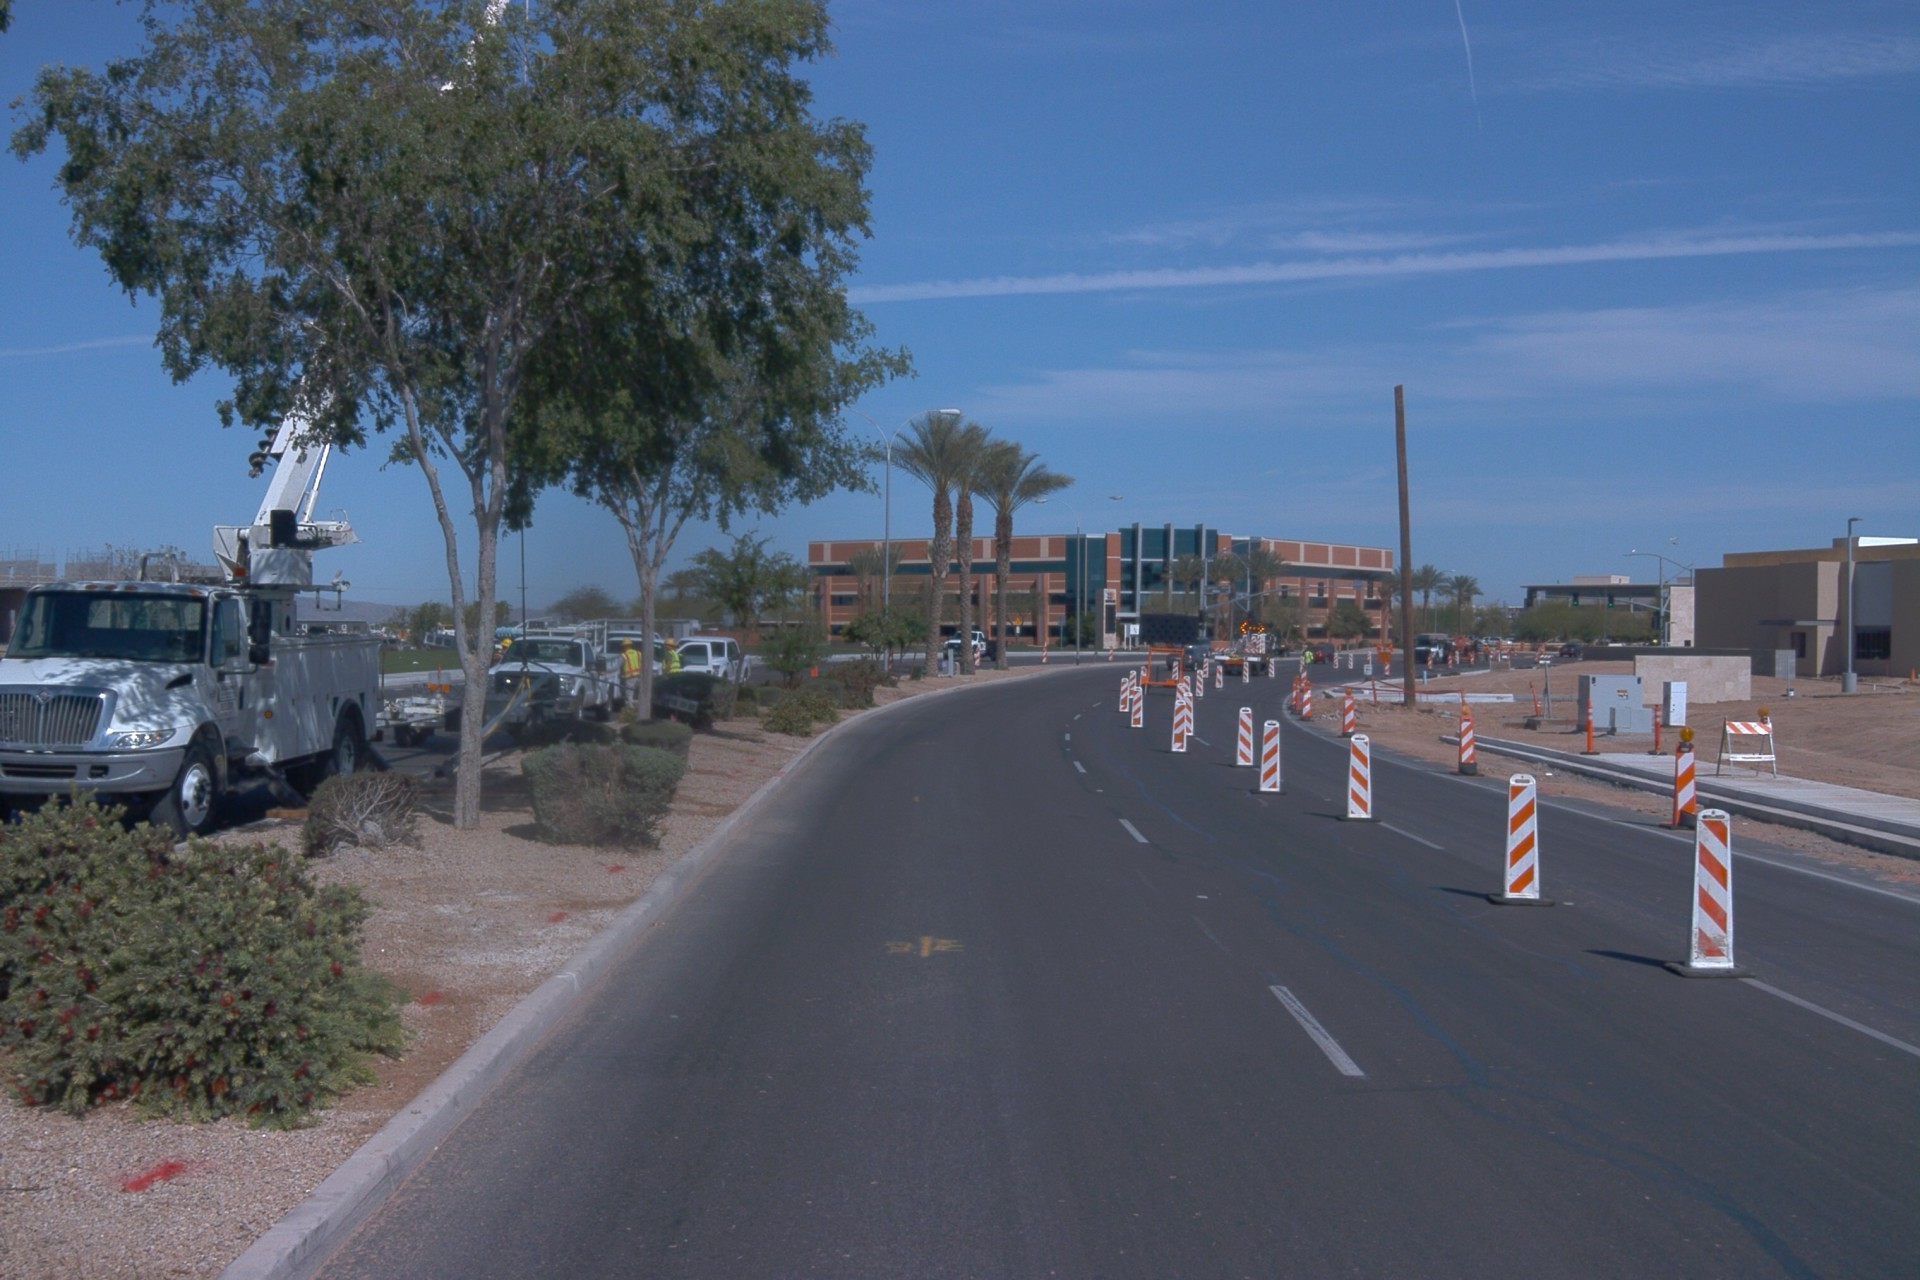TYPE_PEDESTRIAN: (601, 637, 644, 712), (661, 639, 683, 675), (1303, 648, 1313, 676)
TYPE_VEHICLE: (2, 0, 519, 860), (374, 611, 730, 793), (485, 630, 627, 733), (467, 605, 596, 696), (1135, 605, 1212, 700), (596, 633, 685, 706), (678, 632, 754, 691), (1208, 623, 1281, 682), (941, 622, 1007, 667), (1413, 632, 1491, 668), (1250, 631, 1304, 660), (375, 630, 424, 656), (1164, 647, 1205, 673), (1301, 641, 1340, 668), (1169, 635, 1213, 654), (603, 628, 663, 640)
